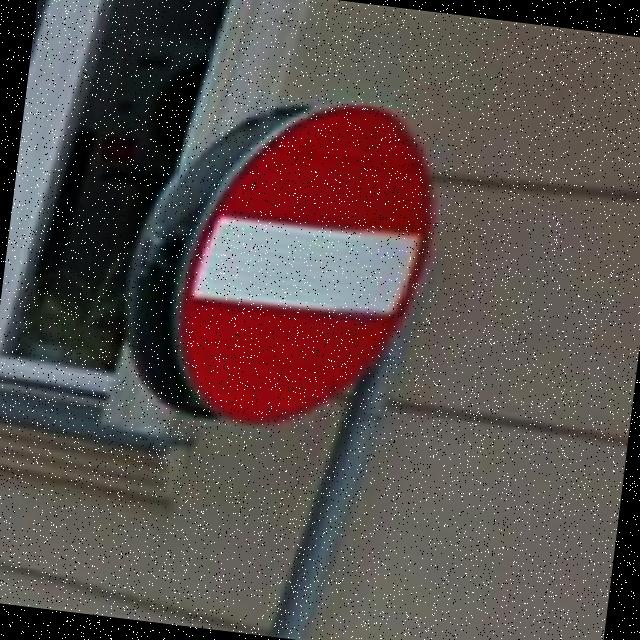Zakaz wjazdu: (162, 84, 446, 445)
